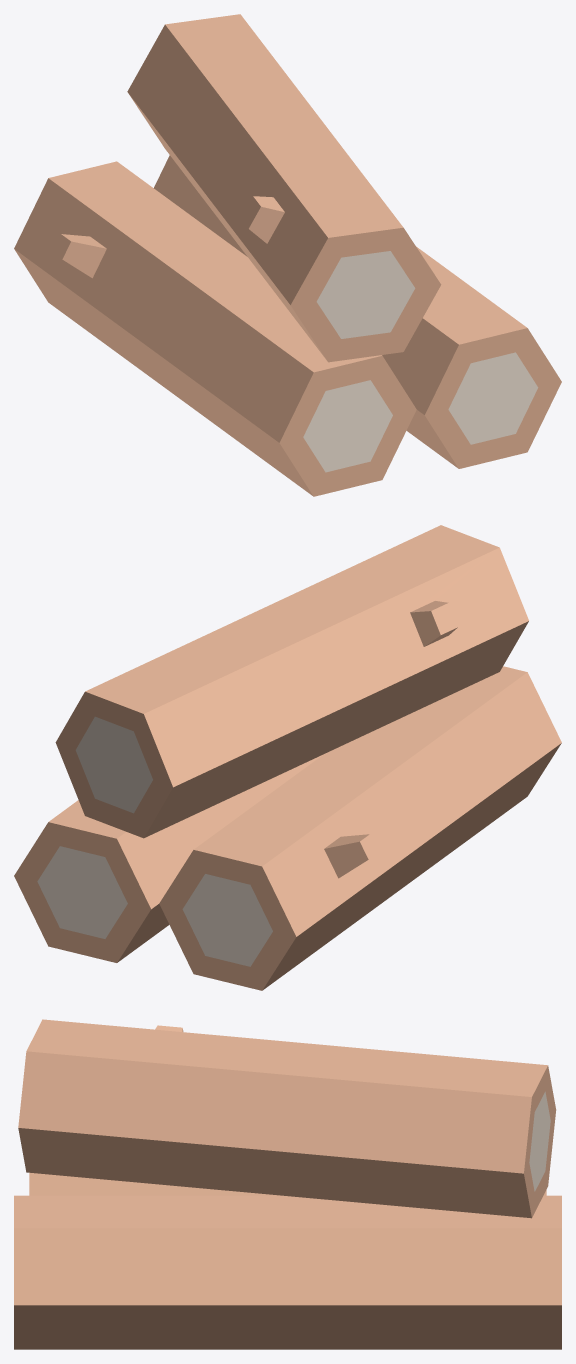
Rendered from log_stack.fbx.
3 views of the same model, one above another, from view 1: azimuth 30°, elevation 25°; view 2: azimuth 150°, elevation 25°; view 3: azimuth 270°, elevation 25° (orthographic). The views are drawn at different scales.
Parts seen in each view (by area): view 1: log_stack_LOD0; view 2: log_stack_LOD0; view 3: log_stack_LOD0.
Part boxes in pixels (<box>): log_stack_LOD0: <box>14,14,561,496</box>; log_stack_LOD0: <box>14,525,561,990</box>; log_stack_LOD0: <box>14,1019,561,1349</box>.
Size of what is drawn, in the model's own units: 42.47 by 34.64 by 71.
